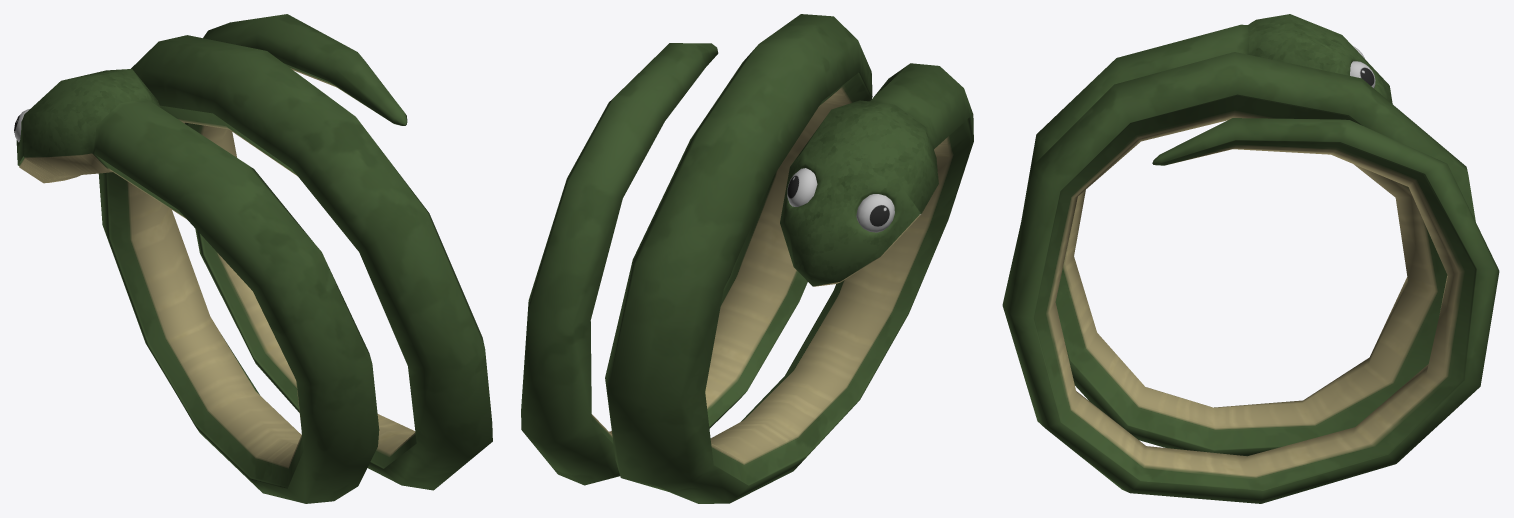
File: Snake_Arm_Attack.fbx
The picture shows the model from 3 angles, left to right: view 1: azimuth 30°, elevation 25°; view 2: azimuth 150°, elevation 25°; view 3: azimuth 270°, elevation 25°; orthographic projection. The views are drawn at different scales.
Visible parts, largest first — view 1: Cylinder109; view 2: Cylinder109; view 3: Cylinder109.
Boxes of the visible parts, left/top/right/bottom form: Cylinder109: left=14, top=14, right=492, bottom=503; Cylinder109: left=521, top=14, right=973, bottom=503; Cylinder109: left=1002, top=14, right=1499, bottom=503.
Size of the model in its own units: 27.97 by 34.93 by 39.94.
